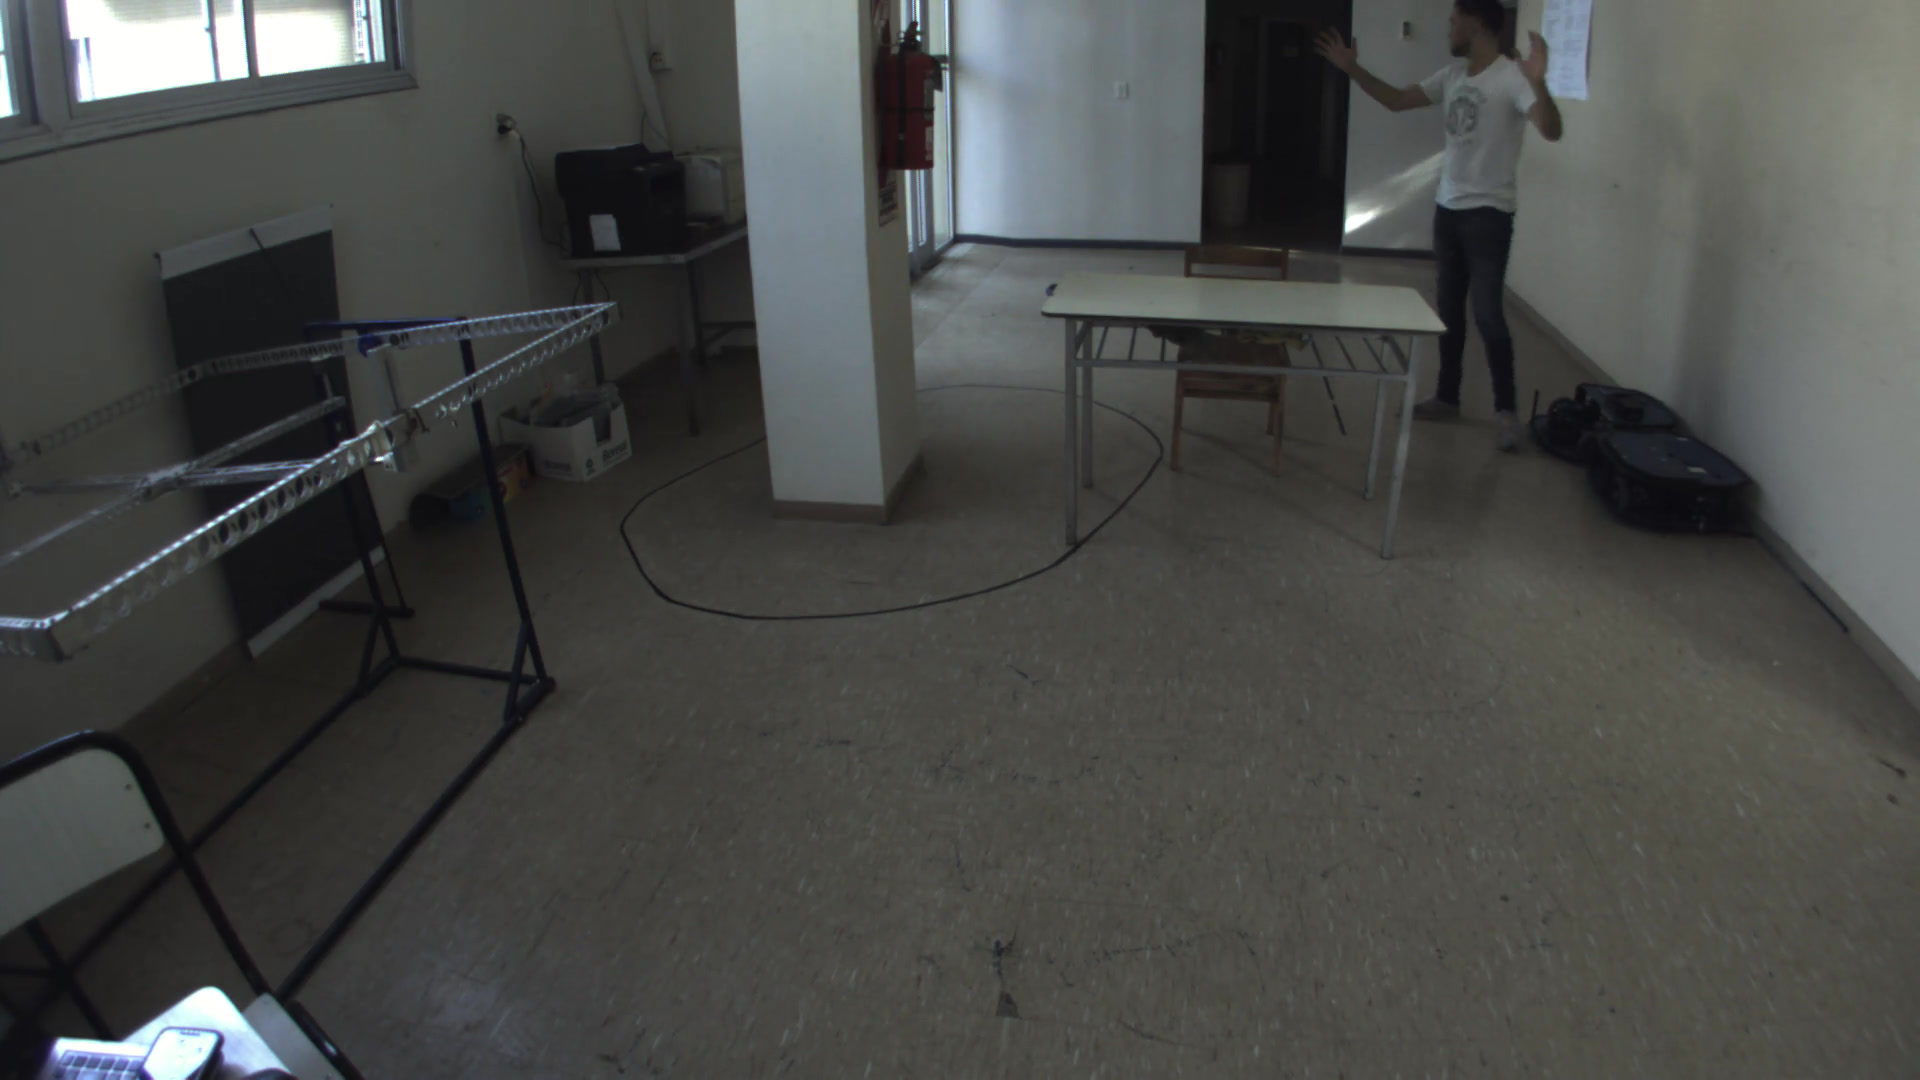hand: (1502, 32, 1563, 95), (1311, 25, 1371, 86)
